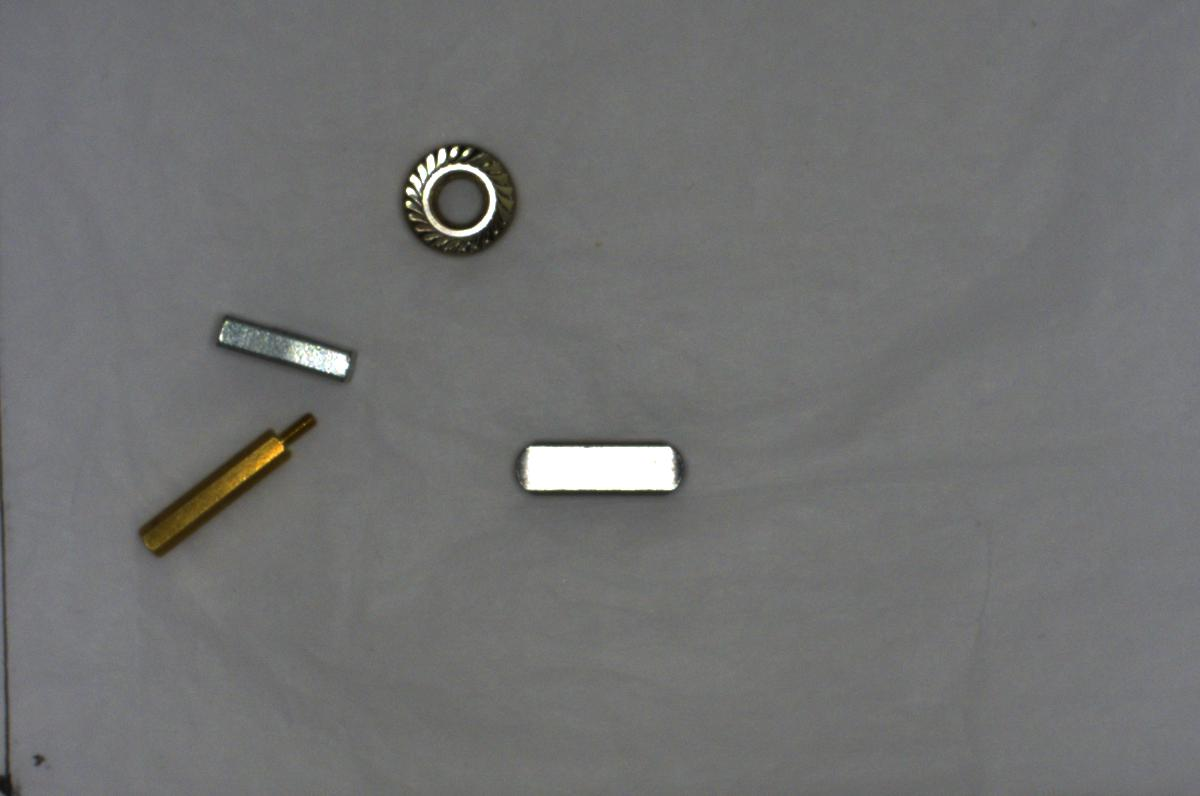Flange nut: (387, 136, 524, 261)
Hexagon pillar: (132, 405, 314, 556)
Keybar: (501, 426, 690, 506)
Rectangular nut: (210, 309, 360, 381)
